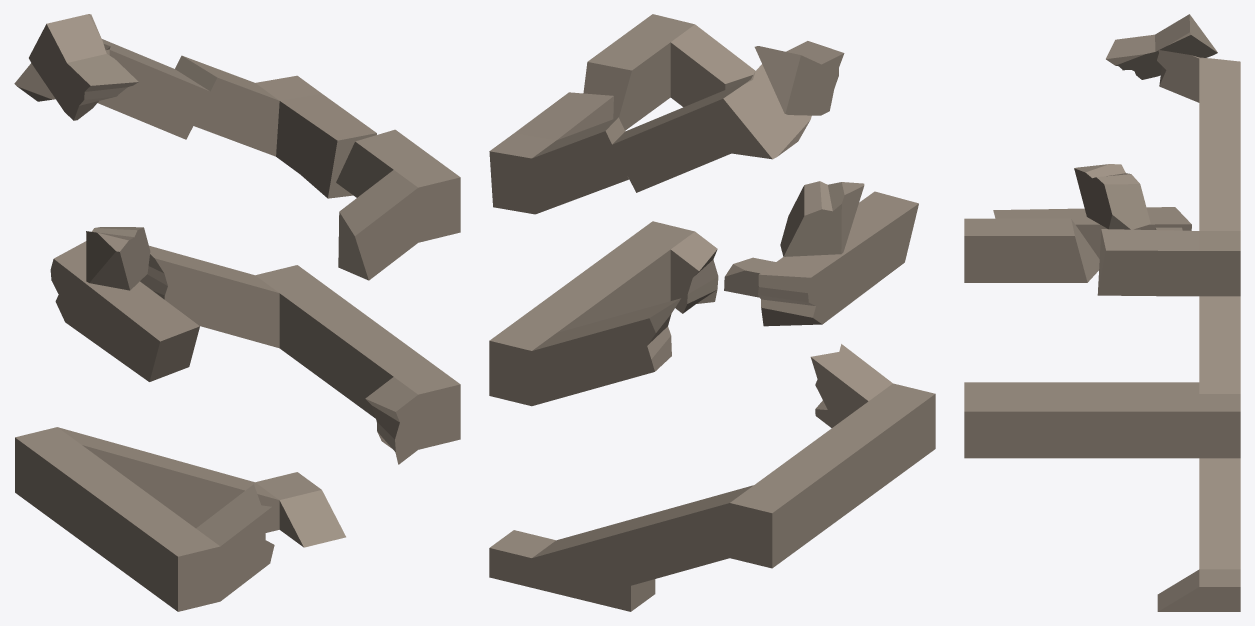
The model's file is pillar_foundation.gltf.
The picture shows the model from 3 angles, left to right: view 1: azimuth 30°, elevation 25°; view 2: azimuth 150°, elevation 25°; view 3: azimuth 270°, elevation 25°; orthographic projection. The views are drawn at different scales.
Visible parts, largest first — view 1: Stairs; view 2: Stairs; view 3: Stairs.
Boxes of the visible parts, box(x1,y1,x2,y2) form: Stairs: box(14, 14, 460, 611); Stairs: box(489, 14, 935, 611); Stairs: box(964, 14, 1240, 611).
Bounding box in the file's own units: 20.11 × 38.44 × 20.
